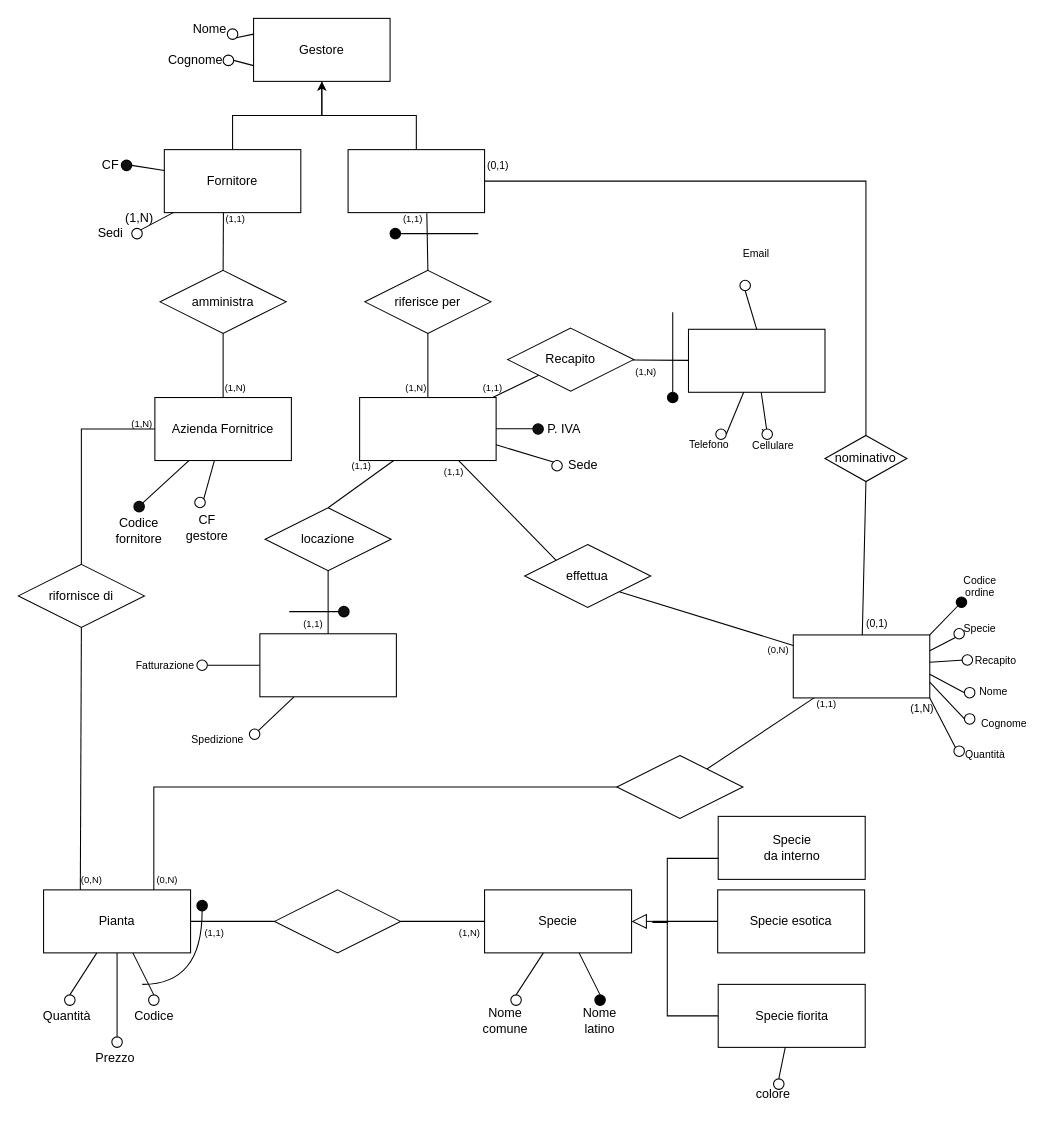
The diagram is 1054 pixels wide and 1129 high, and some of its shapes have lost their labels. Here are the shapes that lost their labels. From the top down, the centre of each, then its label:
At (x=416, y=181): "Referente".
At (x=756, y=360): "Contatto".
At (x=427, y=428): "Rivendita".
At (x=327, y=665): "Indirizzo".
At (x=861, y=666): "ordine".
At (x=679, y=786): "contenuto".
At (x=337, y=921): "Istanza di".
